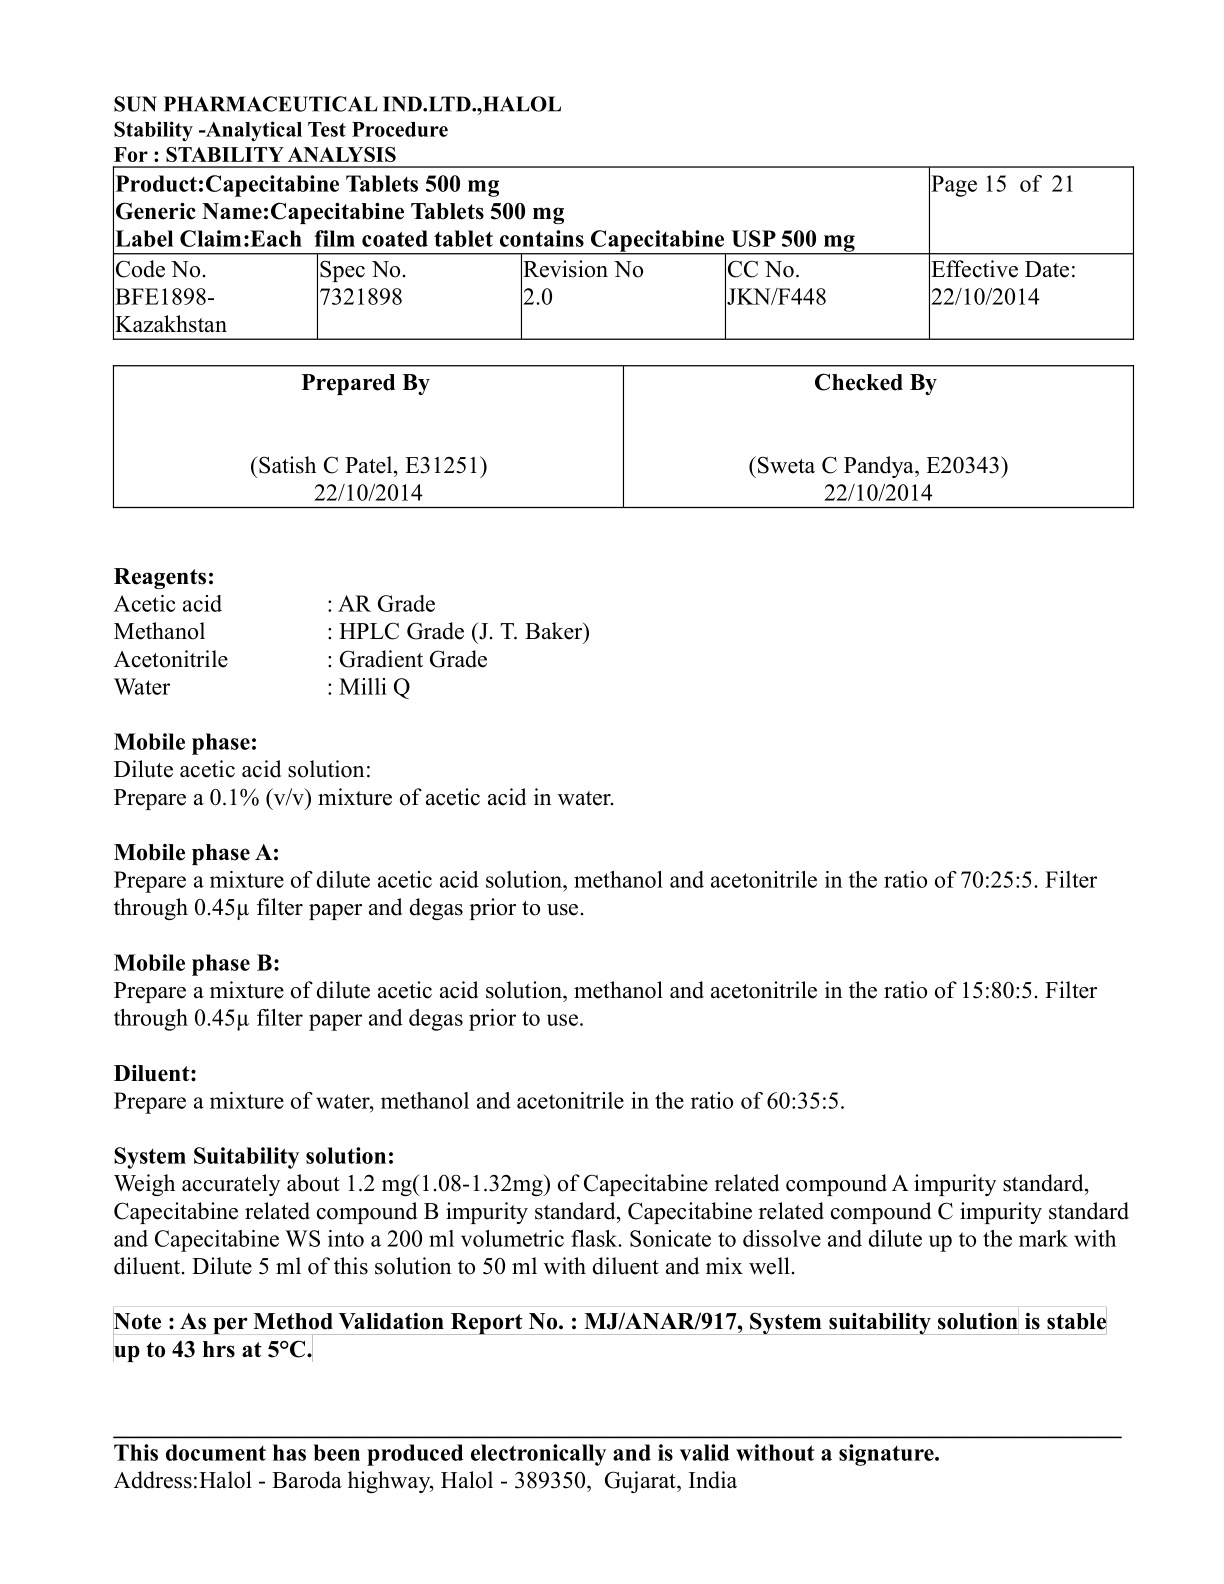full_lined: (111, 363, 1135, 510)
merged_cells: (112, 165, 1135, 342)
nolines: (105, 590, 597, 701)
